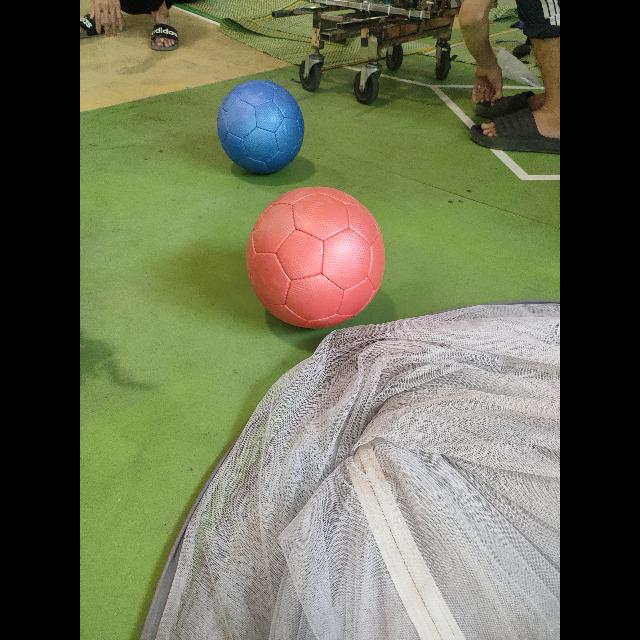B: (216, 80, 305, 177)
R: (246, 188, 387, 331)
